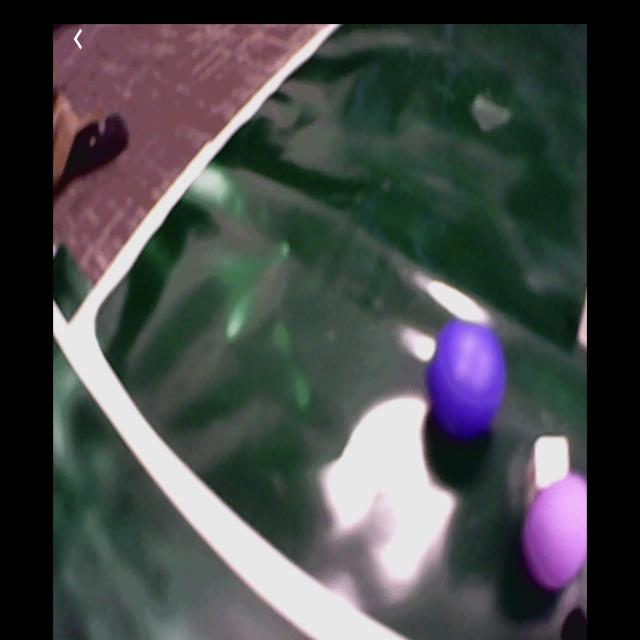ball: (428, 320, 506, 434), (526, 473, 587, 587)
